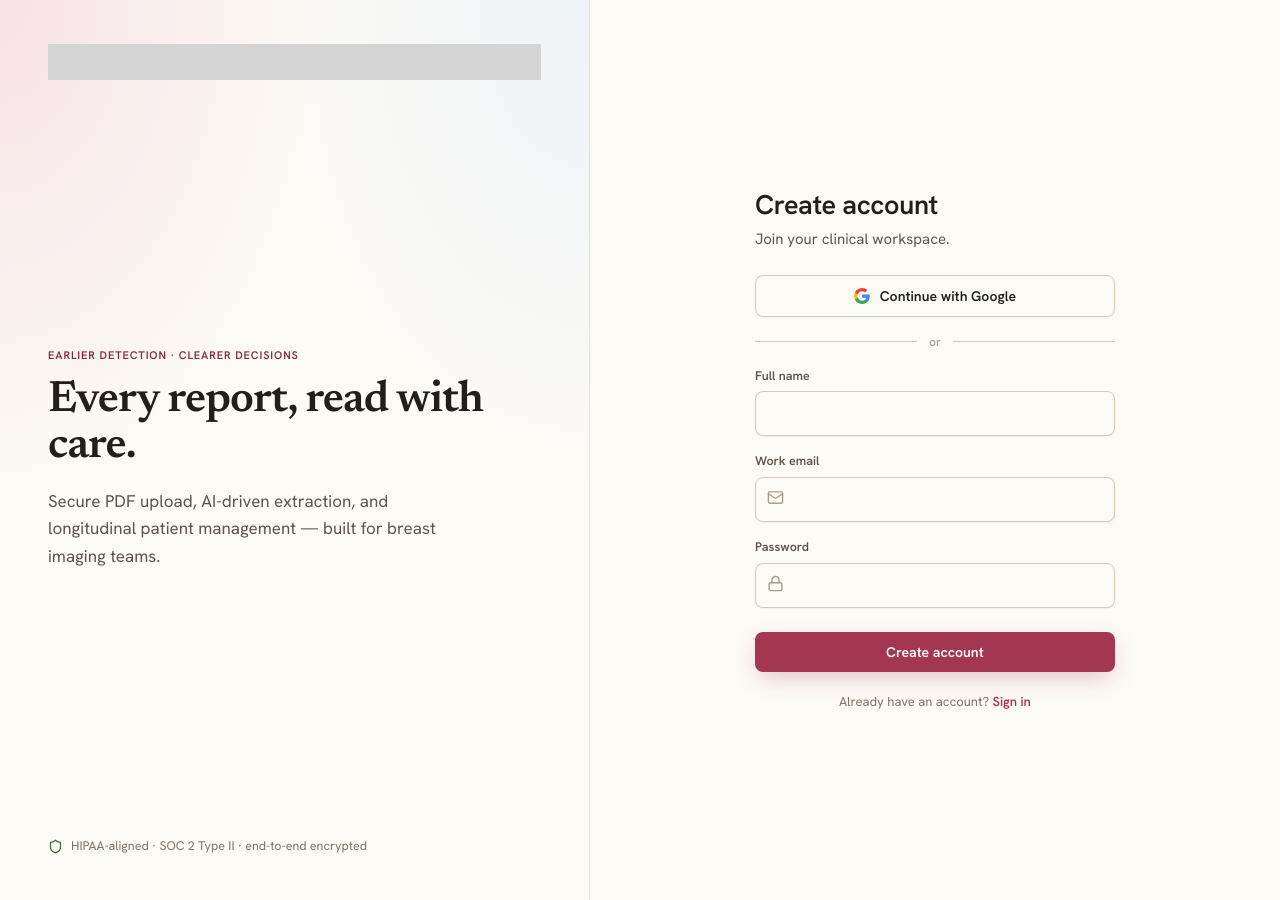
SignUp page › shows error when signUp throws with a message
Type "Alice Kaur" into the field labelled "Full name".
click(935, 414); type("Alice Kaur")  # box x1=755 y1=391 x2=1115 y2=436
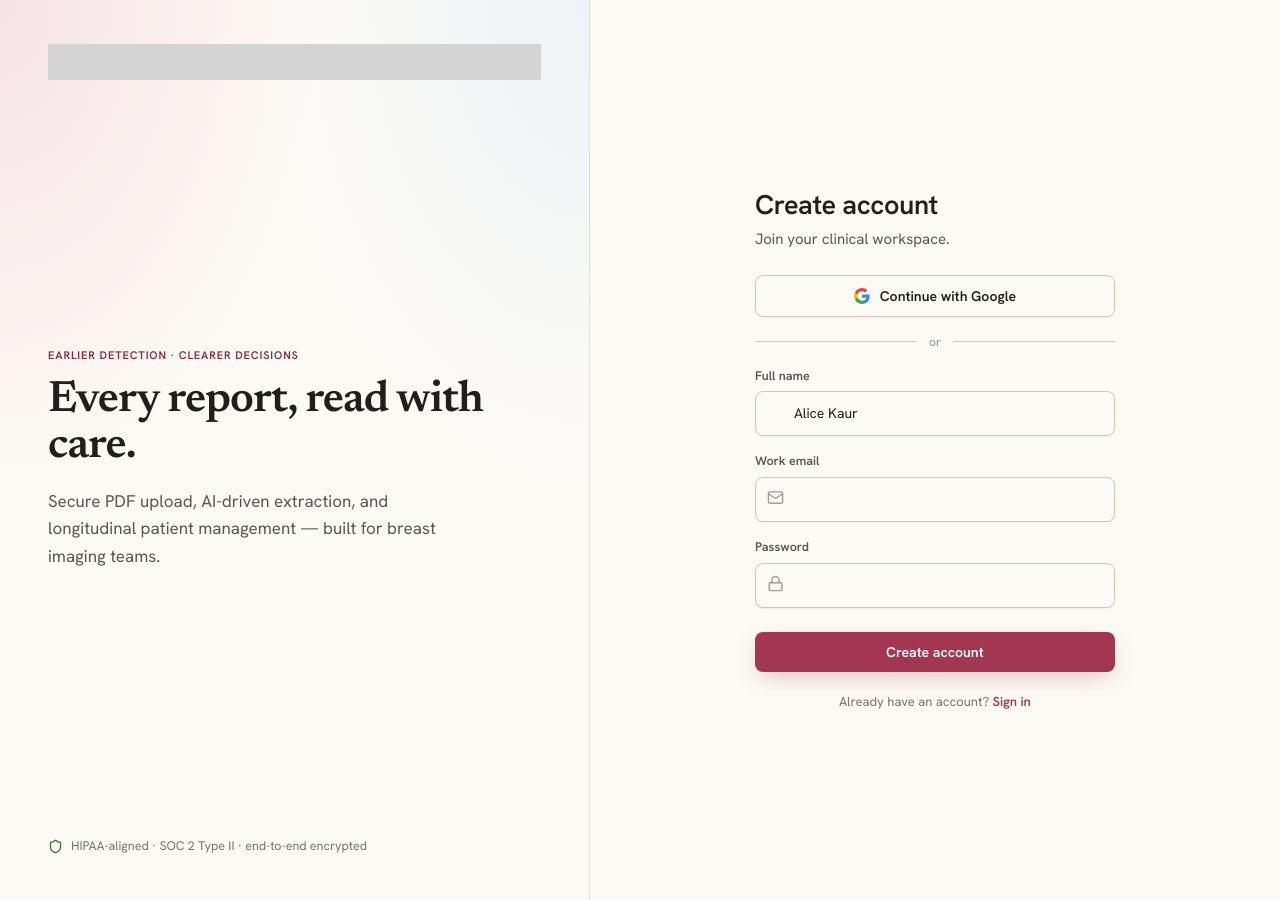
Type "alice@clinic.org" into the field labelled "Work email".
click(935, 500); type("alice@clinic.org")  # box x1=755 y1=477 x2=1115 y2=522
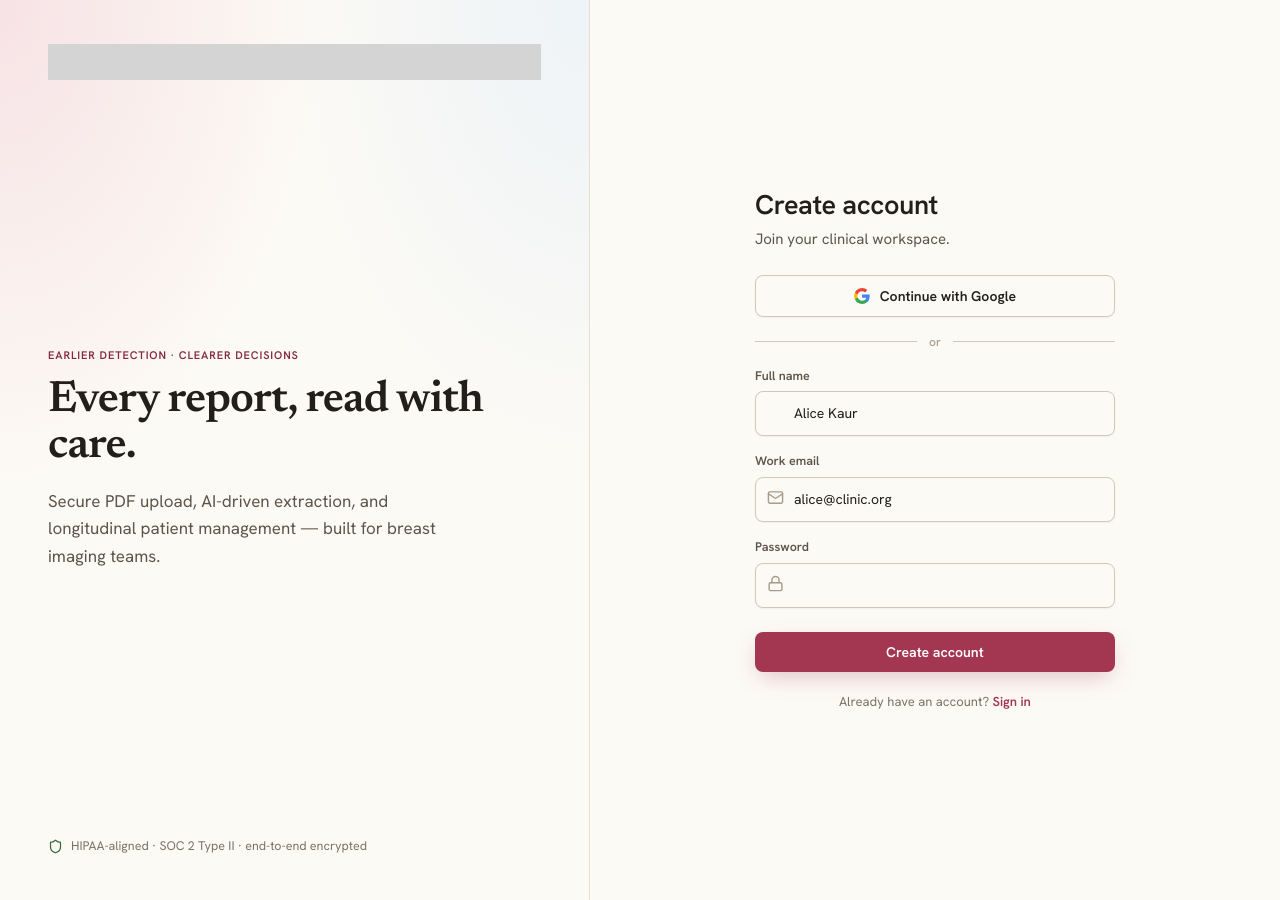
Type "password123" into the password field labelled "Password".
click(935, 585); type("password123")  # box x1=755 y1=563 x2=1115 y2=608
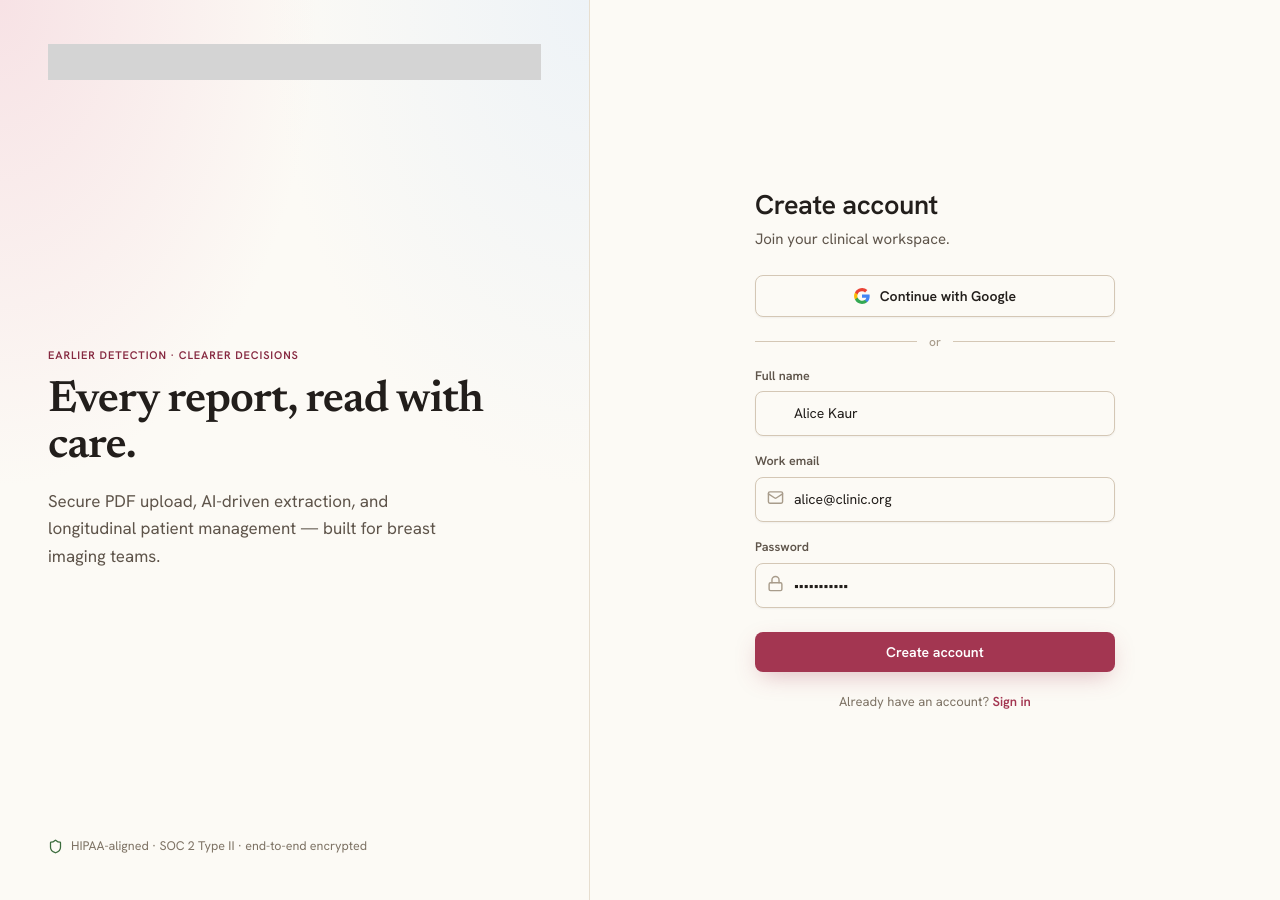
Click the button "Create account".
click(935, 652)  # box x1=755 y1=632 x2=1115 y2=672
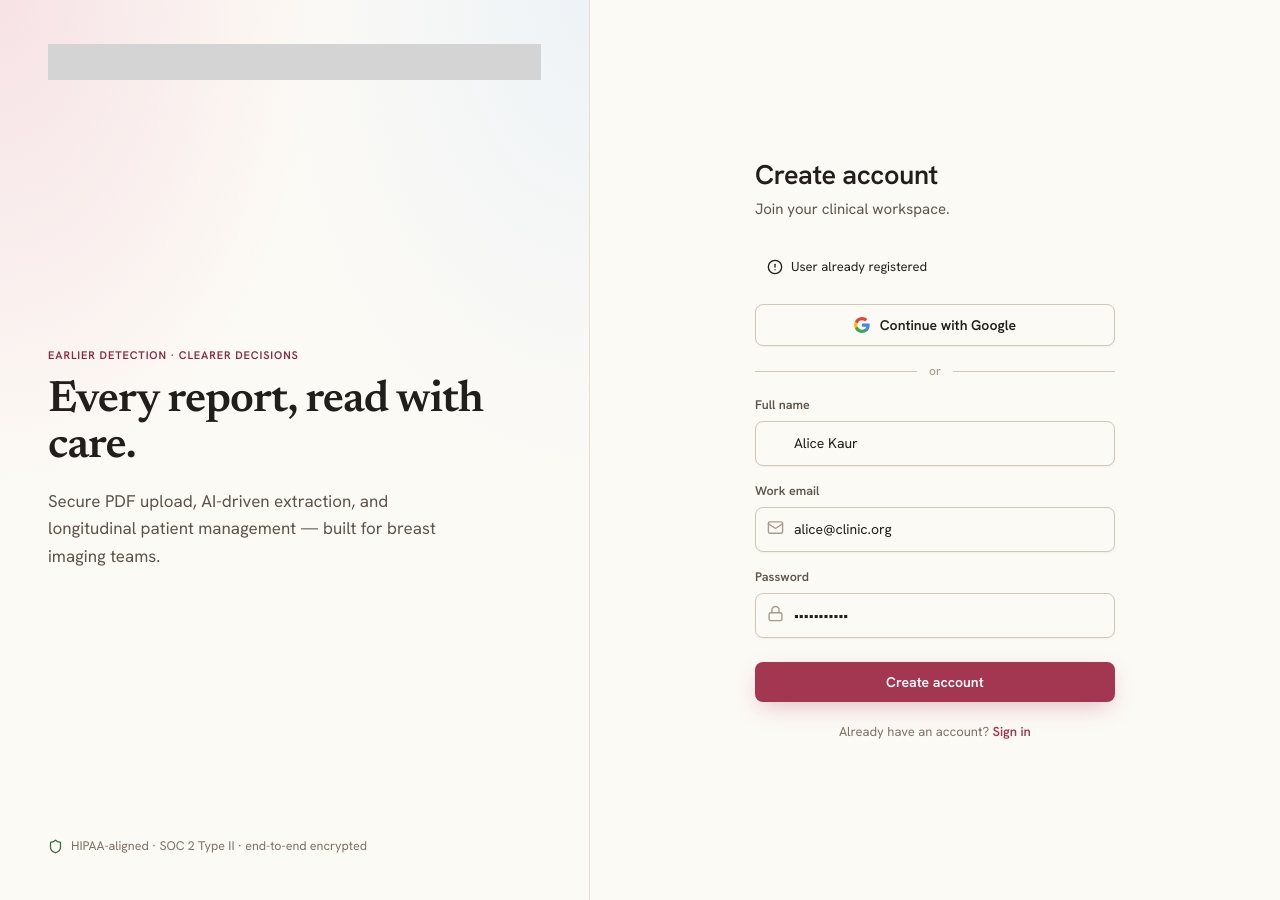
Now the text "User already registered" is shown, box x1=767 y1=258 x2=927 y2=275
